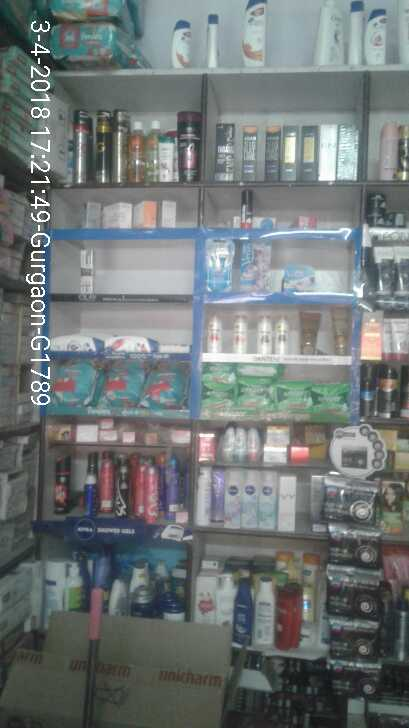gillete: (240, 188, 253, 227)
venus: (240, 241, 272, 292), (206, 238, 235, 290), (285, 265, 318, 292)
